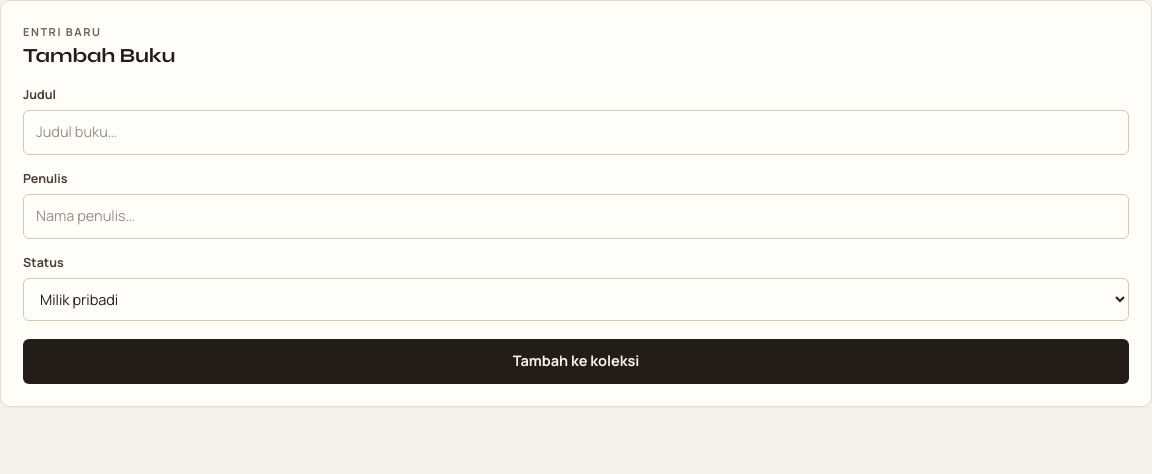
Scenario: BookForm Component › 2. Menampilkan pesan error jika judul kosong saat submit
Click the button "Tambah ke koleksi" at (576, 361), box [23,339,1129,384]
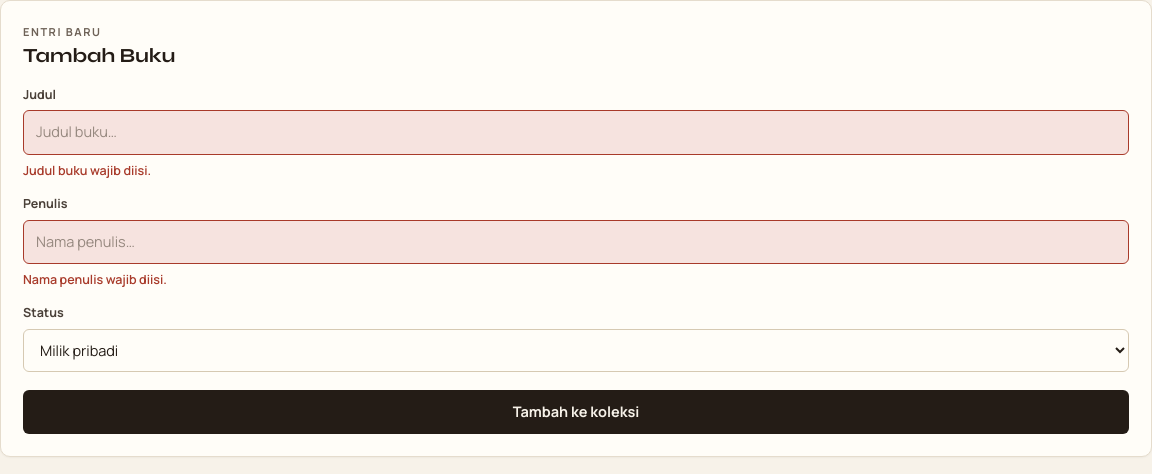
expect the text "Judul buku wajib diisi." is shown: met, box [23,162,151,179]
